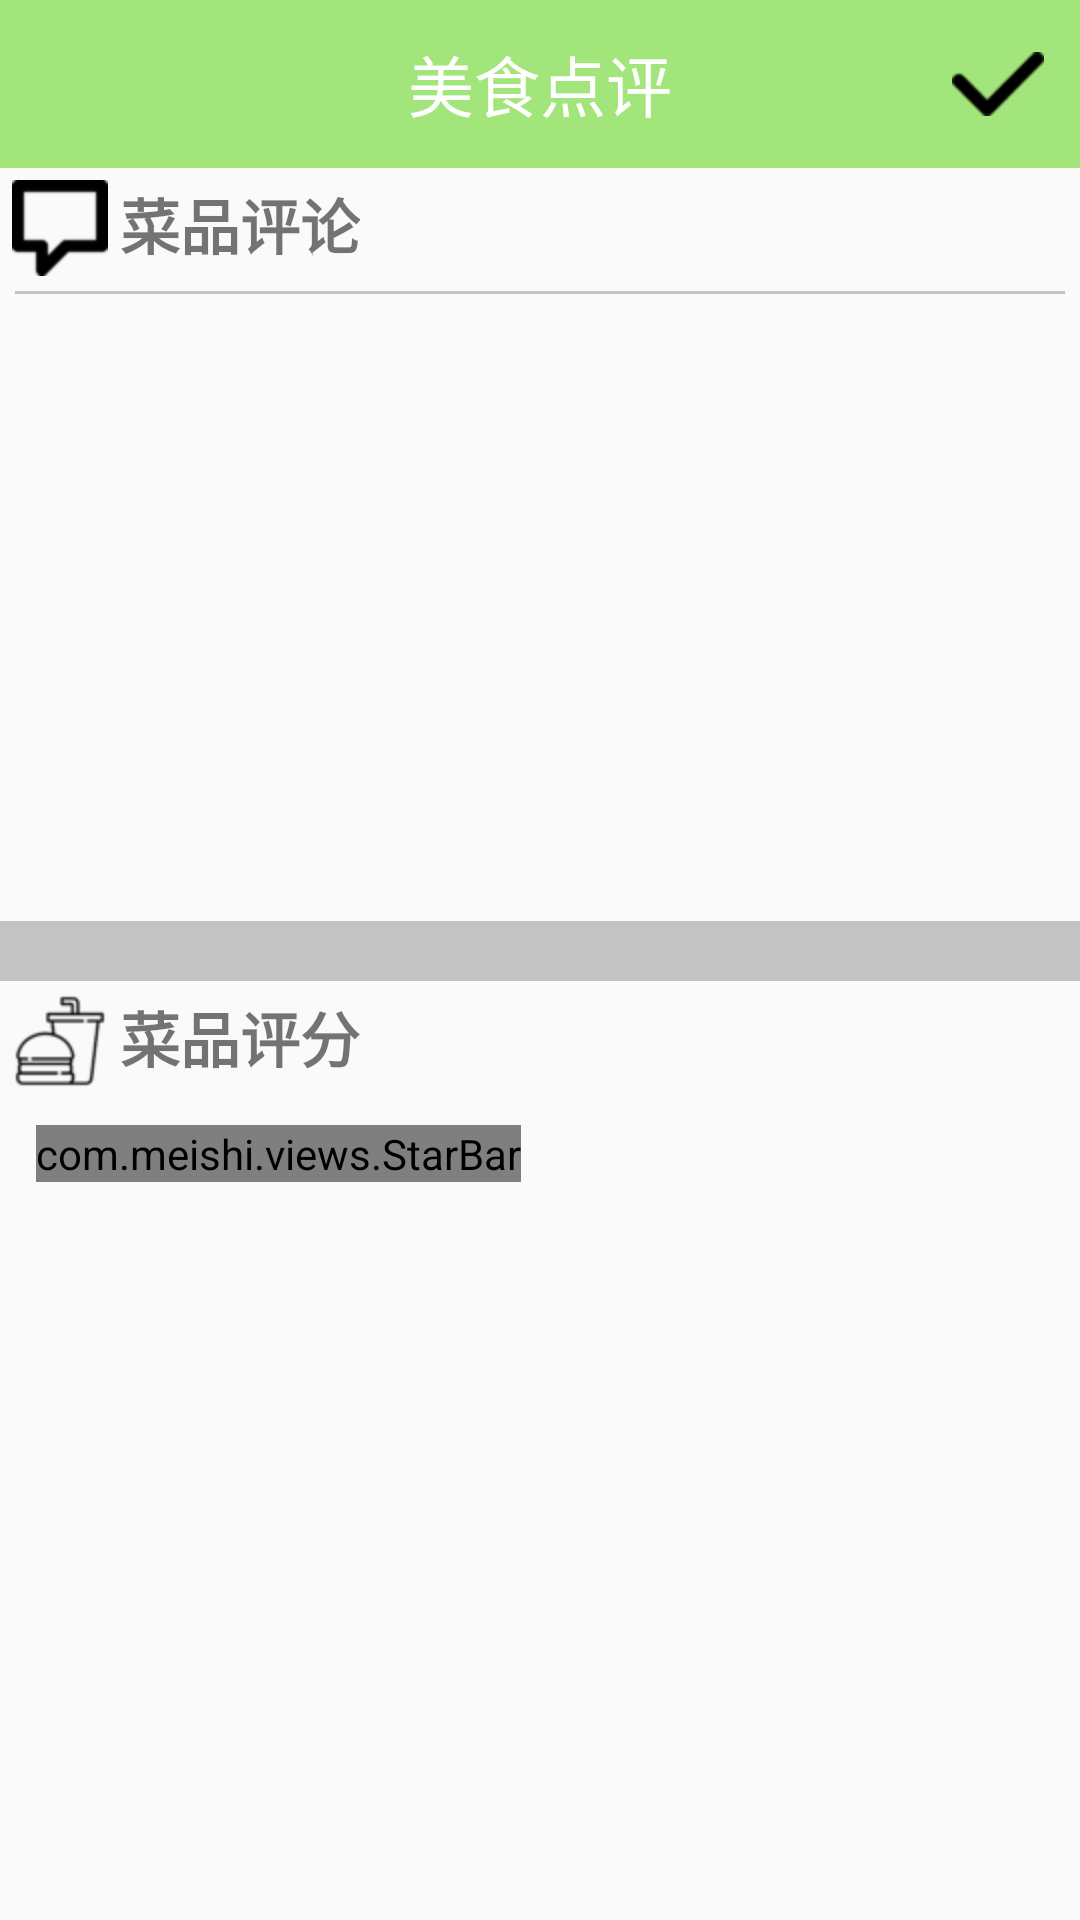

Screen size 1080*1920. Icon name, then its center in pixels as point (x, y):
comment: point (60, 228)
food: point (60, 1041)
tick: point (998, 84)
